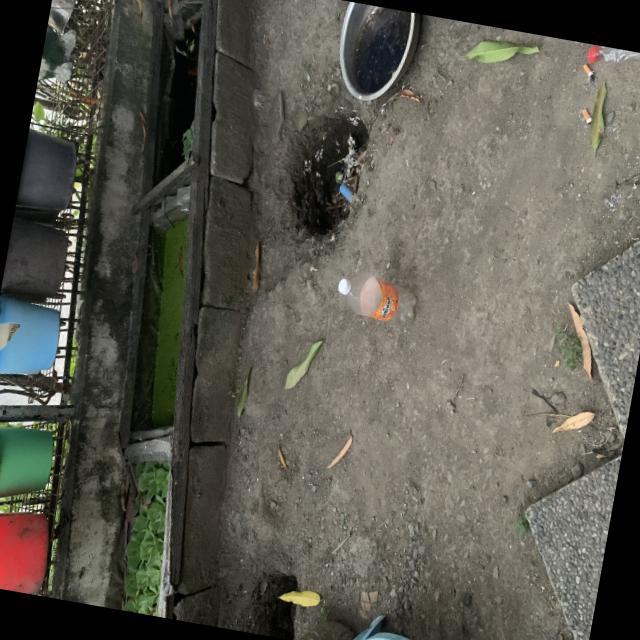Bottle: (338, 273, 416, 325)
